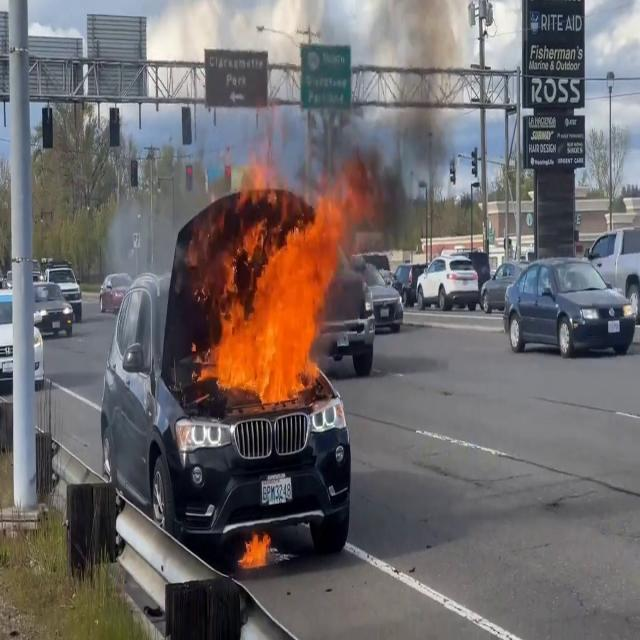Fire: (197, 149, 375, 406), (239, 526, 275, 574)
Smoke: (308, 0, 464, 238)
